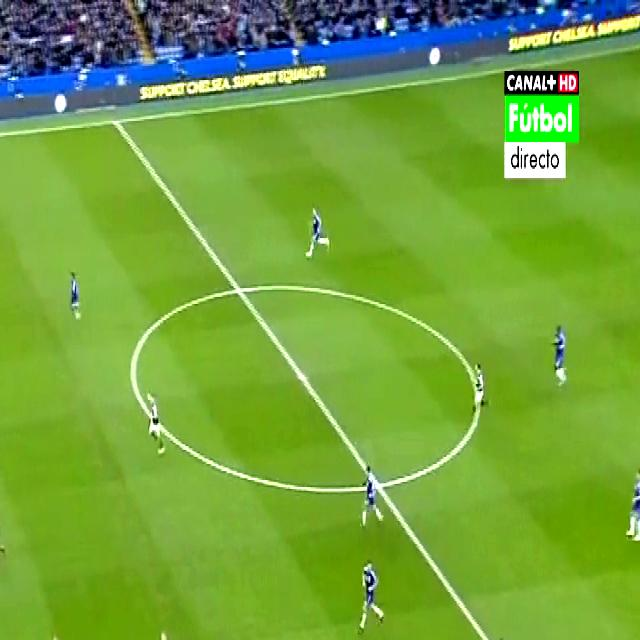referee: (153, 624, 186, 640)
soccer-player: (300, 193, 334, 264), (140, 381, 169, 464), (357, 553, 383, 636), (360, 456, 387, 532), (549, 304, 572, 389), (464, 359, 496, 417), (64, 255, 84, 326), (37, 611, 84, 640), (625, 466, 640, 555), (0, 490, 5, 578), (485, 633, 530, 640)
